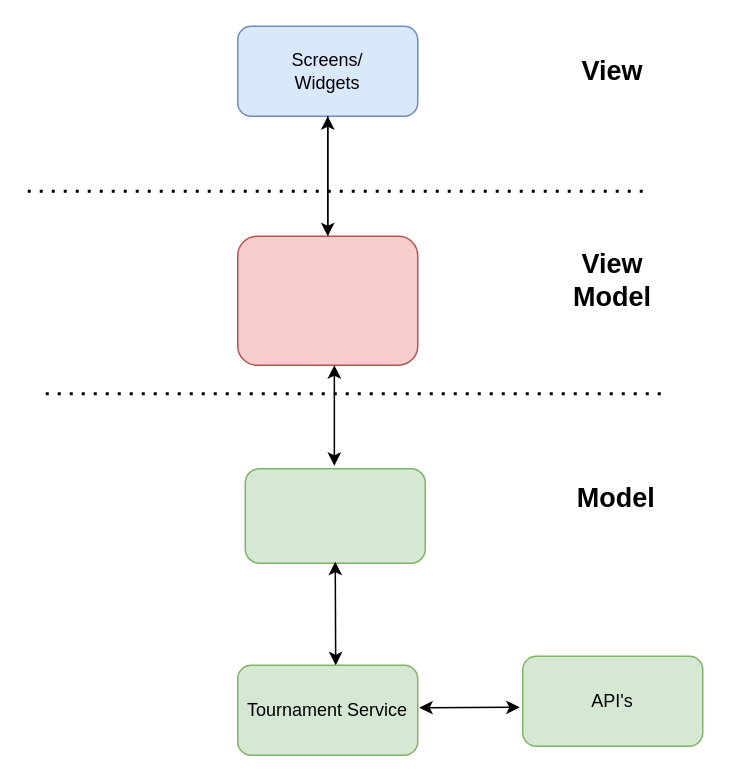
Image size: 729x782. Some labels were removed from this diagram. The box of each missing label's shape, as (x1, y1, x2, y2) in pixels:
Change Notifier (SplashViewModel, LoginViewModel, HomeViewModel): (236, 235, 418, 365)
Tournaments Repository: (244, 467, 425, 563)
